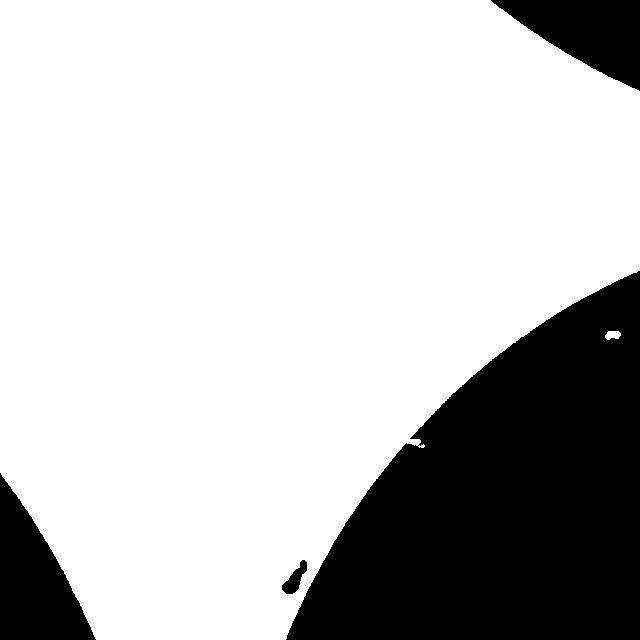copper: (272, 550, 316, 603)
mousebite: (396, 429, 434, 457)
pin-hole: (595, 321, 630, 349)
